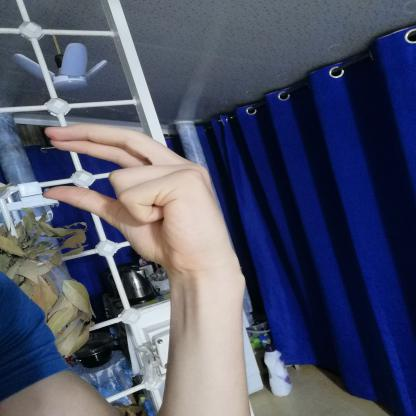DHELL: (26, 114, 245, 275)
